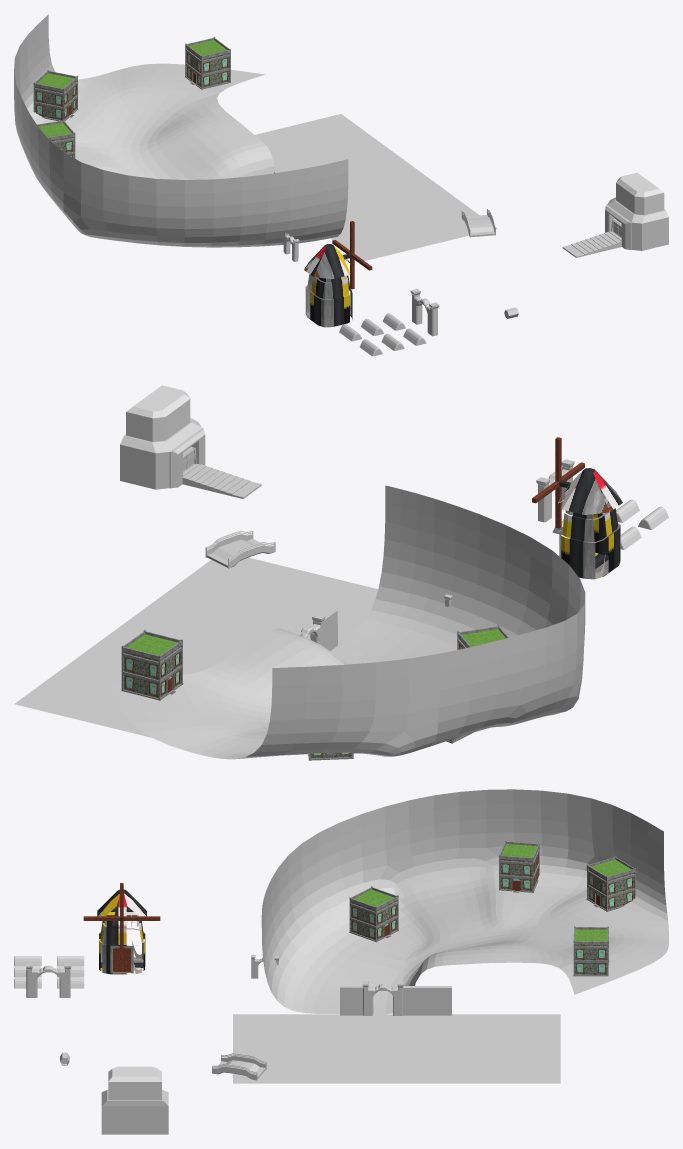
The model's file is InitiaTown_6.fbx.
3 views of the same model, one above another, from view 1: azimuth 30°, elevation 25°; view 2: azimuth 150°, elevation 25°; view 3: azimuth 270°, elevation 25° (orthographic). The views are drawn at different scales.
Parts seen in each view (by area): view 1: TerrainV6, Windmill, Lab Entrance, House01_v1, House01_v1.001, Lab Glass, Farming Mounds, Mountain Lab Bridge, House01_v1.002, Farm Arch, Bridge; view 2: TerrainV6, Windmill, Lab Entrance, House01_v1, Lab Glass, Mountain Lab Bridge, Bridge, Farming Mounds, Housing Area Arch, Farm Arch, House01_v1.003; view 3: TerrainV6, Windmill, Housing Area Arch, Lab Entrance, House01_v1.003, House01_v1.001, House01_v1.002, Lab Glass, House01_v1, Farming Mounds, Bridge, Farm Arch.
Part boxes in pixels (x1,y1,x2,y2): TerrainV6: (14,14,497,260); Windmill: (304,221,372,327); Lab Entrance: (605,197,668,250); House01_v1: (185,36,230,89); House01_v1.001: (33,70,78,121); Lab Glass: (615,172,664,223); Farming Mounds: (339,313,426,356); Mountain Lab Bridge: (562,231,621,257); House01_v1.002: (37,119,75,158); Farm Arch: (410,289,439,336); Bridge: (461,209,495,237); TerrainV6: (14,485,585,759); Windmill: (532,437,622,579); Lab Entrance: (120,418,205,489); House01_v1: (121,630,183,700); Lab Glass: (126,385,191,452); Mountain Lab Bridge: (182,463,261,498); Bridge: (205,530,275,568); Farming Mounds: (552,499,668,549); Housing Area Arch: (291,609,337,650); Farm Arch: (536,459,574,522); House01_v1.003: (457,625,508,649); TerrainV6: (233,789,668,1083); Windmill: (83,883,160,974); Housing Area Arch: (340,981,451,1015); Lab Entrance: (101,1089,168,1134); House01_v1.003: (349,886,398,942); House01_v1.001: (586,856,635,911); House01_v1.002: (499,840,539,892); Lab Glass: (108,1066,161,1100); House01_v1: (573,926,609,976); Farming Mounds: (14,956,84,988); Bridge: (212,1053,266,1080); Farm Arch: (26,963,71,997).
Bounding box in the file's own units: 50.86 × 59.99 × 14.32.
